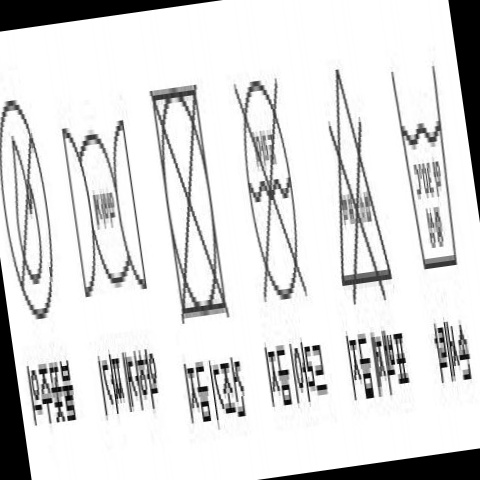30C: (374, 50, 470, 285)
DN_dry_clean: (219, 68, 315, 313)
DN_tumble_dry: (132, 79, 239, 337)
non_chlorine_bleach: (299, 63, 401, 304)
wring: (50, 113, 150, 301)
